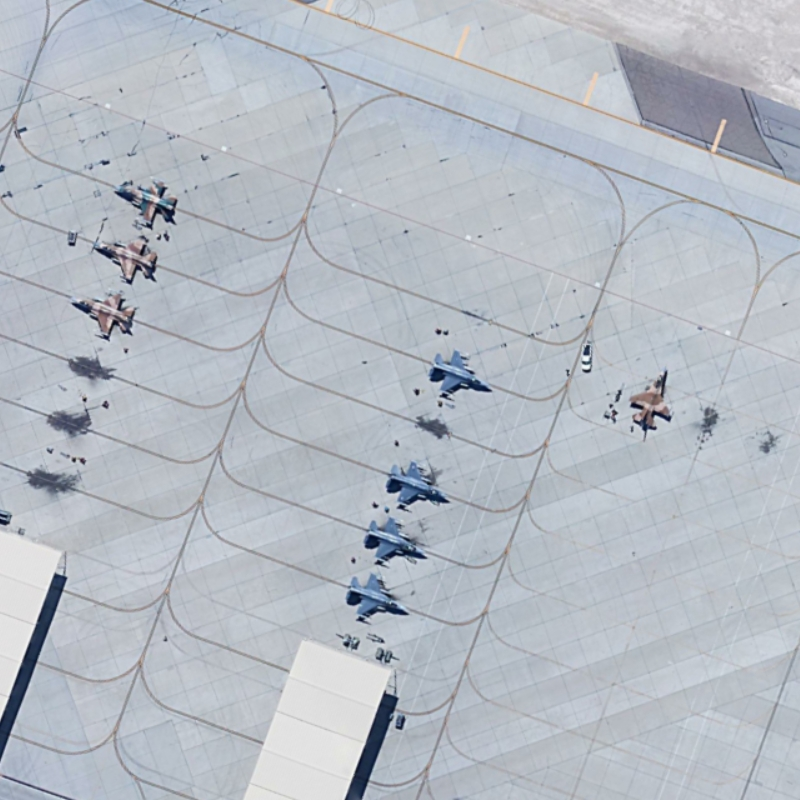A5: (337, 566, 415, 629), (423, 345, 499, 405), (383, 452, 454, 516), (64, 289, 142, 347), (110, 174, 183, 233), (355, 515, 432, 570), (88, 233, 164, 288), (621, 365, 680, 434)
